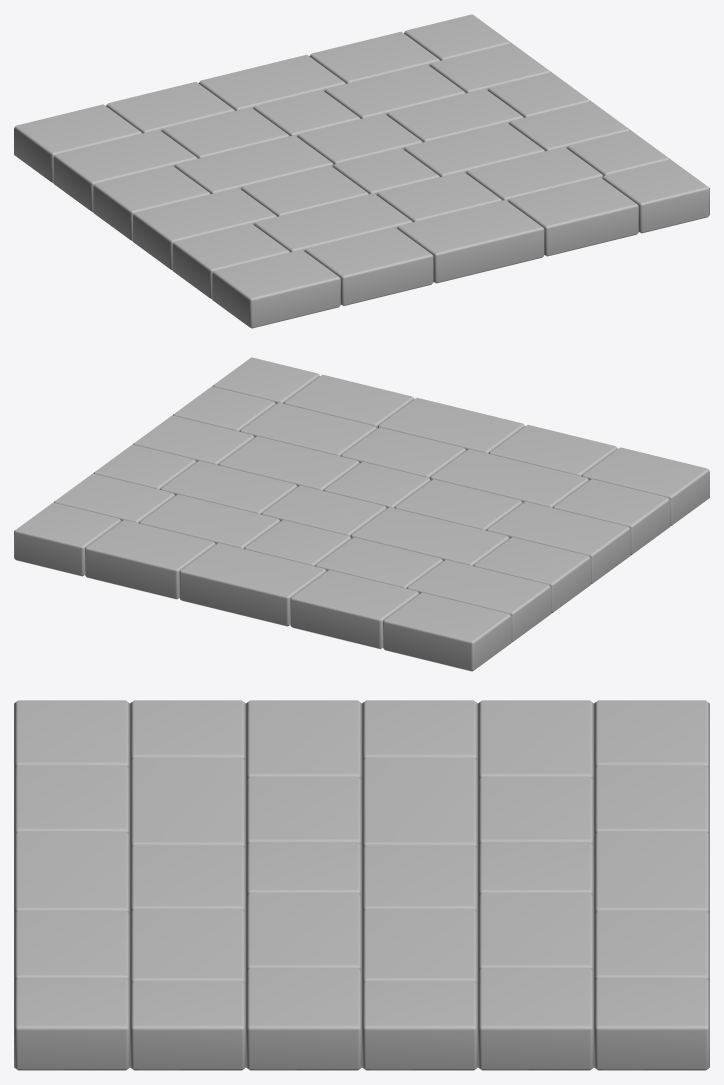
Rendered from City_8_Base_1.glb.
3 views of the same model, one above another, from view 1: azimuth 30°, elevation 25°; view 2: azimuth 150°, elevation 25°; view 3: azimuth 270°, elevation 25° (orthographic). The views are drawn at different scales.
Visible parts, largest first — view 1: City_8_Base_1; view 2: City_8_Base_1; view 3: City_8_Base_1.
Part boxes in pixels (bbox=[...]): City_8_Base_1: bbox=[14, 14, 709, 328]; City_8_Base_1: bbox=[14, 357, 709, 671]; City_8_Base_1: bbox=[14, 700, 709, 1070].
Bounding box in the file's own units: 9.76 × 0.6294 × 8.74.
1 material, 1 textured.
